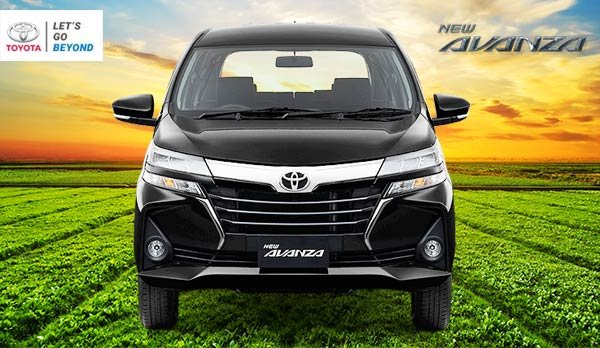mobil: (130, 27, 465, 337)
